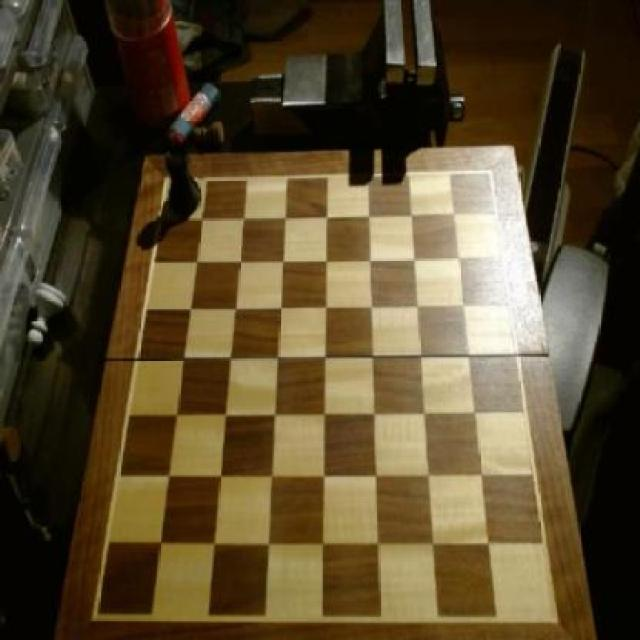black-queen: (163, 146, 205, 220)
